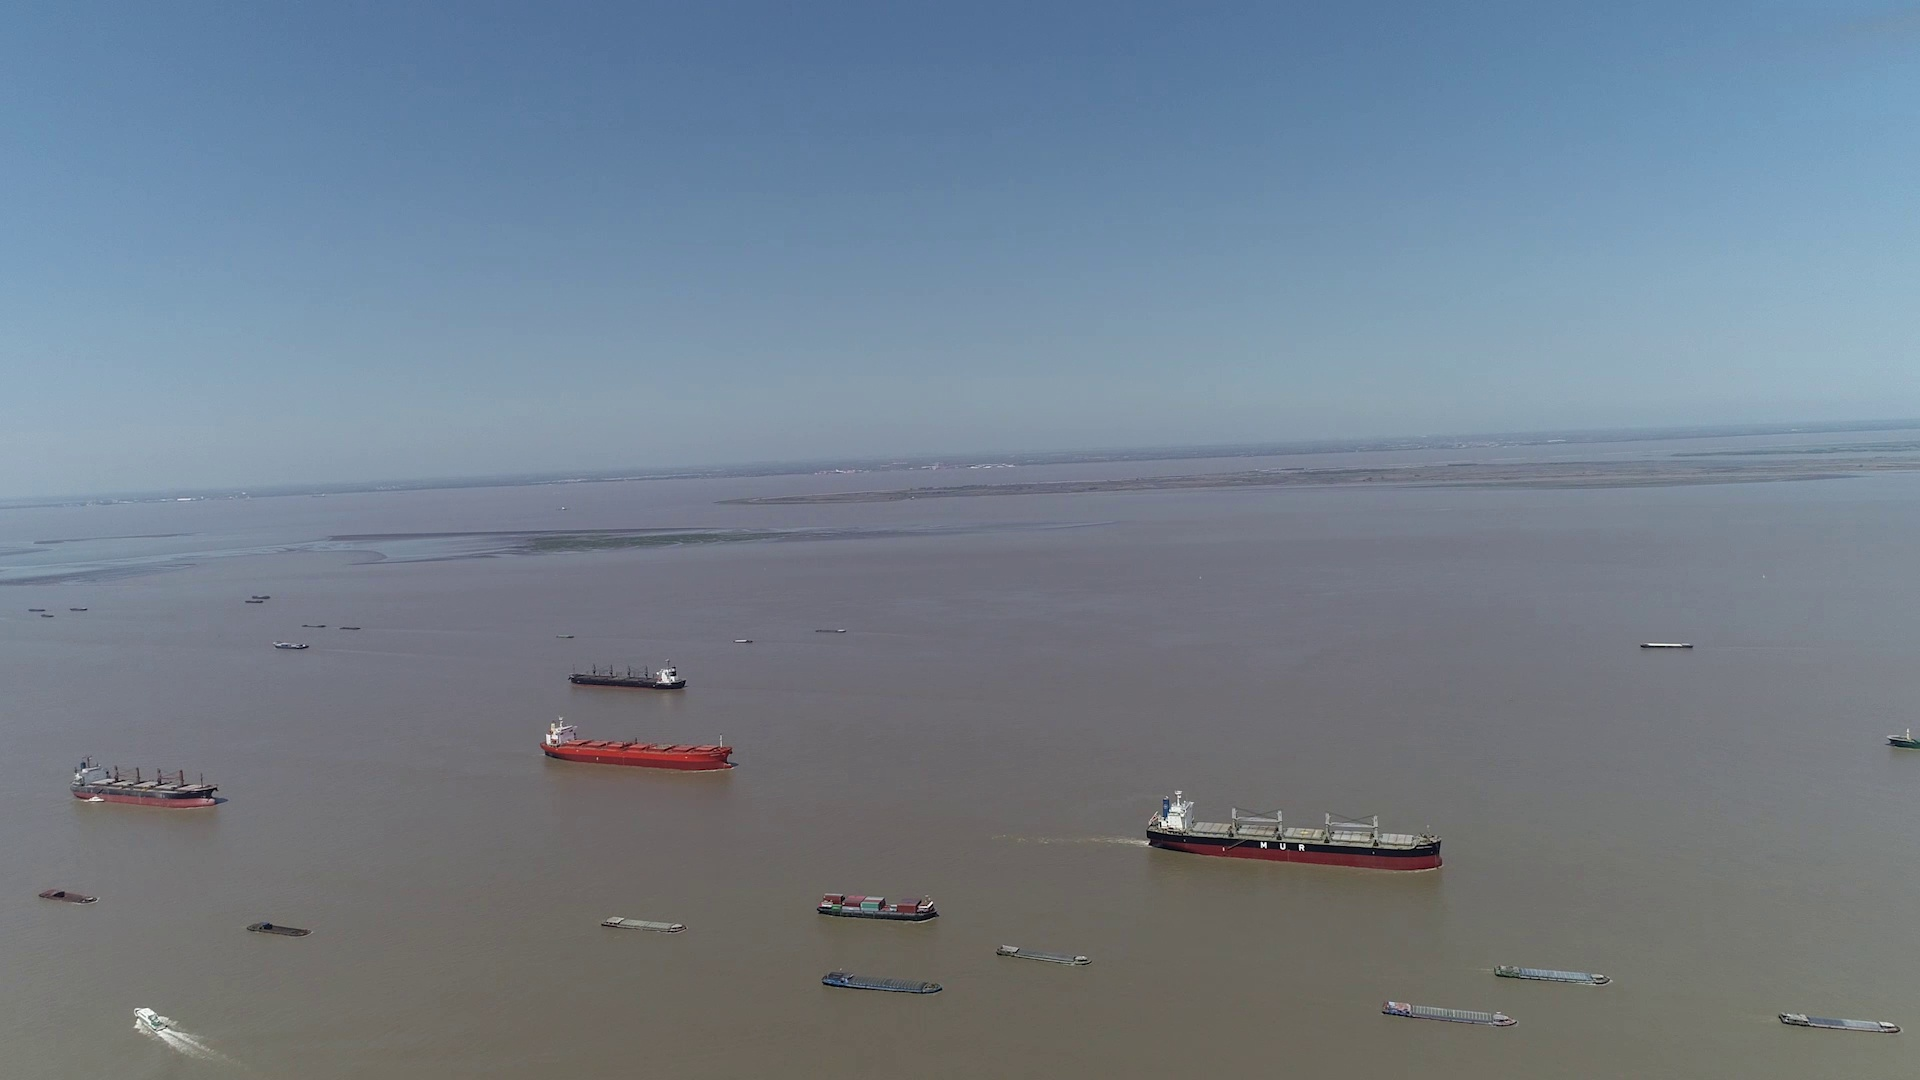ship: (1142, 790, 1444, 872), (542, 716, 732, 770), (73, 758, 220, 810), (1382, 1000, 1519, 1029), (816, 893, 939, 922), (568, 659, 683, 688), (822, 971, 942, 994), (1780, 1010, 1900, 1033), (1494, 963, 1611, 985), (997, 943, 1091, 965), (601, 915, 688, 934), (245, 920, 310, 936), (137, 1007, 173, 1035), (38, 889, 95, 905), (1888, 729, 1919, 750), (1640, 640, 1693, 647), (272, 640, 313, 649)
